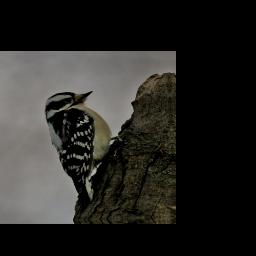Woodpecker: (42, 86, 138, 217)
